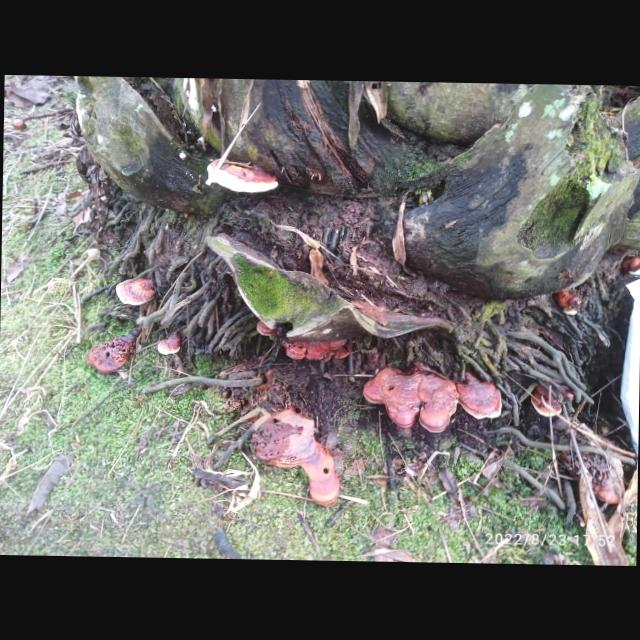ganoderma: (252, 407, 342, 508), (363, 365, 461, 435), (207, 161, 279, 195), (455, 374, 504, 423), (86, 335, 139, 376), (280, 337, 352, 365), (530, 380, 575, 419), (590, 464, 627, 507), (116, 278, 159, 307), (554, 290, 583, 318), (158, 337, 181, 355), (257, 321, 277, 337), (626, 256, 640, 275)
primordium: (179, 153, 188, 161)
